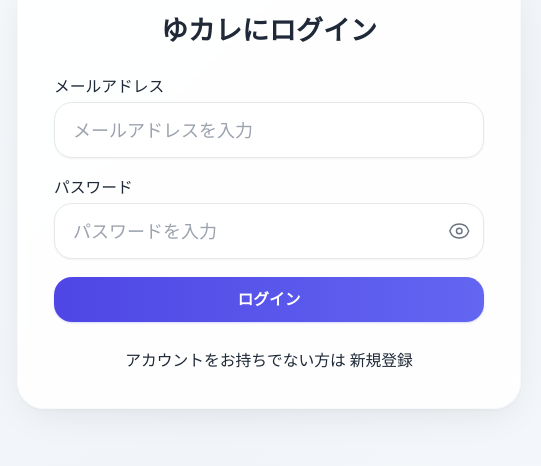
AuthForm › login mode › validation › should show error when password is too short
Type "test@example.com" into the field labelled "メールアドレス". click: (269, 130)
box: [54,102,484,158]
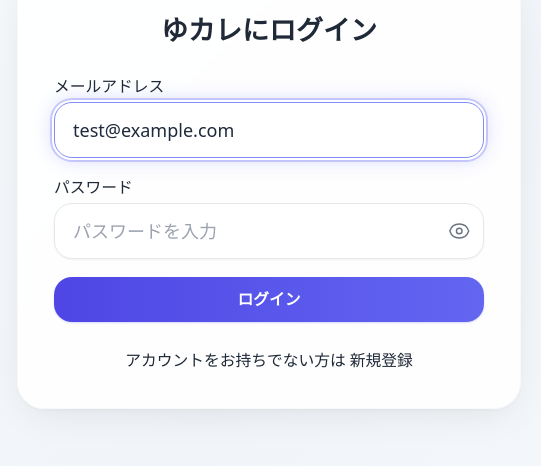
Type "123" into the password field with placeholder "パスワードを入力". click: (269, 231)
box: [54,203,484,259]
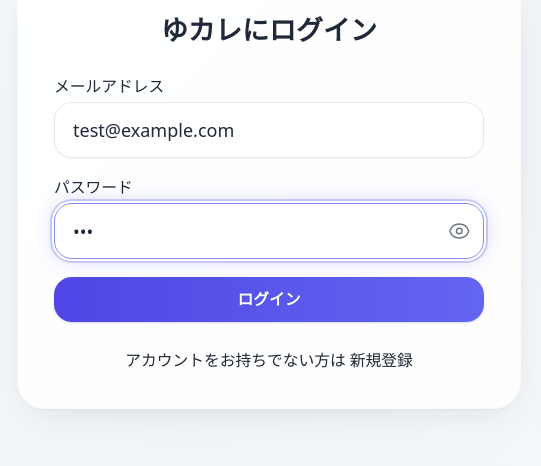
Click the button "ログイン". click: click(269, 300)
box: [54,277,484,322]
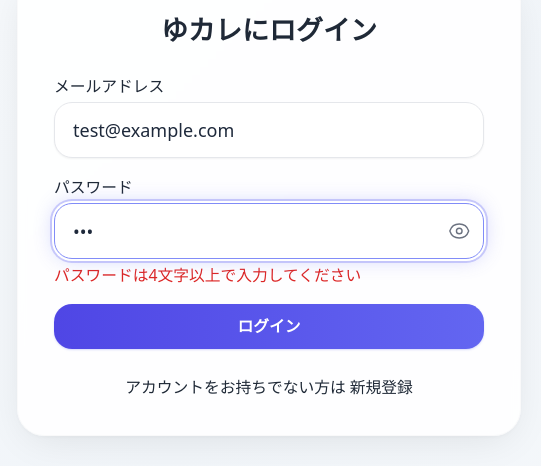
Result: the text "パスワードは4文字以上で入力してください" is shown at [54,264,361,286]
